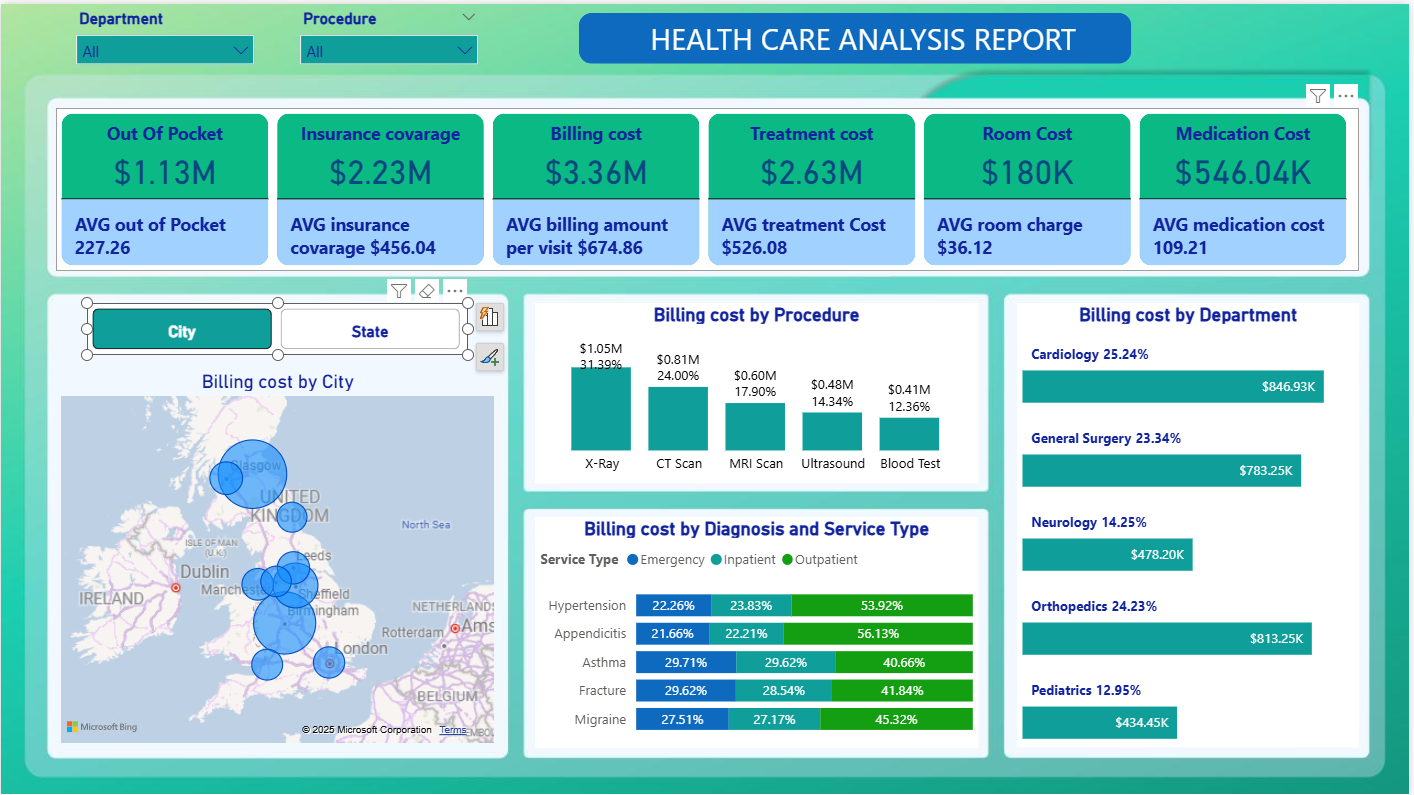

The page's visual inventory and layout, read from the dashboard file:
{"tool":"powerbi","page":{"name":"Page 2","canvas":[1280,720],"ordinal":0},"visuals":[{"type":"cardVisual","fields":{"Data":["_Measure Table.Out Of Pocket","_Measure Table.Total insurance covarage","_Measure Table.Total billing cost","_Measure Table.Total Treatment cost","_Measure Table.Total Room Cost","_Measure Table.Medication Cost"]},"box":[50.3,94.4,1183.8,148.2],"z":0},{"type":"map","fields":{"Category":["cities.City"],"Size":["_Measure Table.Billing cost"]},"box":[50.4,332.6,403.1,343.7],"z":1000},{"type":"advancedSlicerVisual","fields":{"Values":["Location.Location"]},"box":[78.6,272.1,345.7,47.4],"z":2000},{"type":"clusteredColumnChart","fields":{"Y":["_Measure Table.Billing cost"],"Category":["procedures.Procedure"]},"box":[485.8,272.1,403.1,164.3],"z":3000},{"type":"hundredPercentStackedBarChart","fields":{"Category":["diagnoses.Diagnosis"],"Y":["_Measure Table.Billing cost"],"Series":["visits.Service Type"]},"box":[485.8,466.6,403.1,209.6],"z":4000},{"type":"clusteredBarChart","title":"Billing cost by Department","fields":{"Category":["departments.Department"],"Y":["_Measure Table.blank Measure","_Measure Table.Billing cost"]},"box":[923.2,272.1,311.4,404.2],"z":5000},{"type":"slicer","fields":{"Values":["departments.Department"]},"box":[58.5,0,182.4,69.5],"z":5001},{"type":"slicer","fields":{"Values":["procedures.Procedure"]},"box":[262,0,182.4,69.5],"z":5002},{"type":"shape","box":[525.1,8.1,501.9,46.4],"z":5003},{"type":"textbox","box":[585.6,8.1,415.2,53.4],"z":5004}]}

Visuals, with their boxes in screenshot pixels (x1, y1, x2, y2), scaled from the page's 1280x720 canvas onto the 1414x795 screenshot:
cardVisual - _Measure Table.Out Of Pocket x _Measure Table.Total insurance covarage: [56,104,1363,268]
map - cities.City x _Measure Table.Billing cost: [56,367,501,747]
advancedSlicerVisual - Location.Location: [87,300,469,353]
clusteredColumnChart - _Measure Table.Billing cost x procedures.Procedure: [537,300,982,482]
hundredPercentStackedBarChart - diagnoses.Diagnosis x _Measure Table.Billing cost: [537,515,982,747]
"Billing cost by Department" clusteredBarChart: [1020,300,1364,747]
slicer - departments.Department: [65,0,266,77]
slicer - procedures.Procedure: [289,0,491,77]
shape: [580,9,1135,60]
textbox: [647,9,1106,68]
